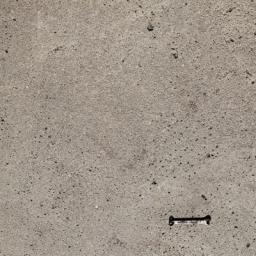FOD: (166, 213, 215, 231)
